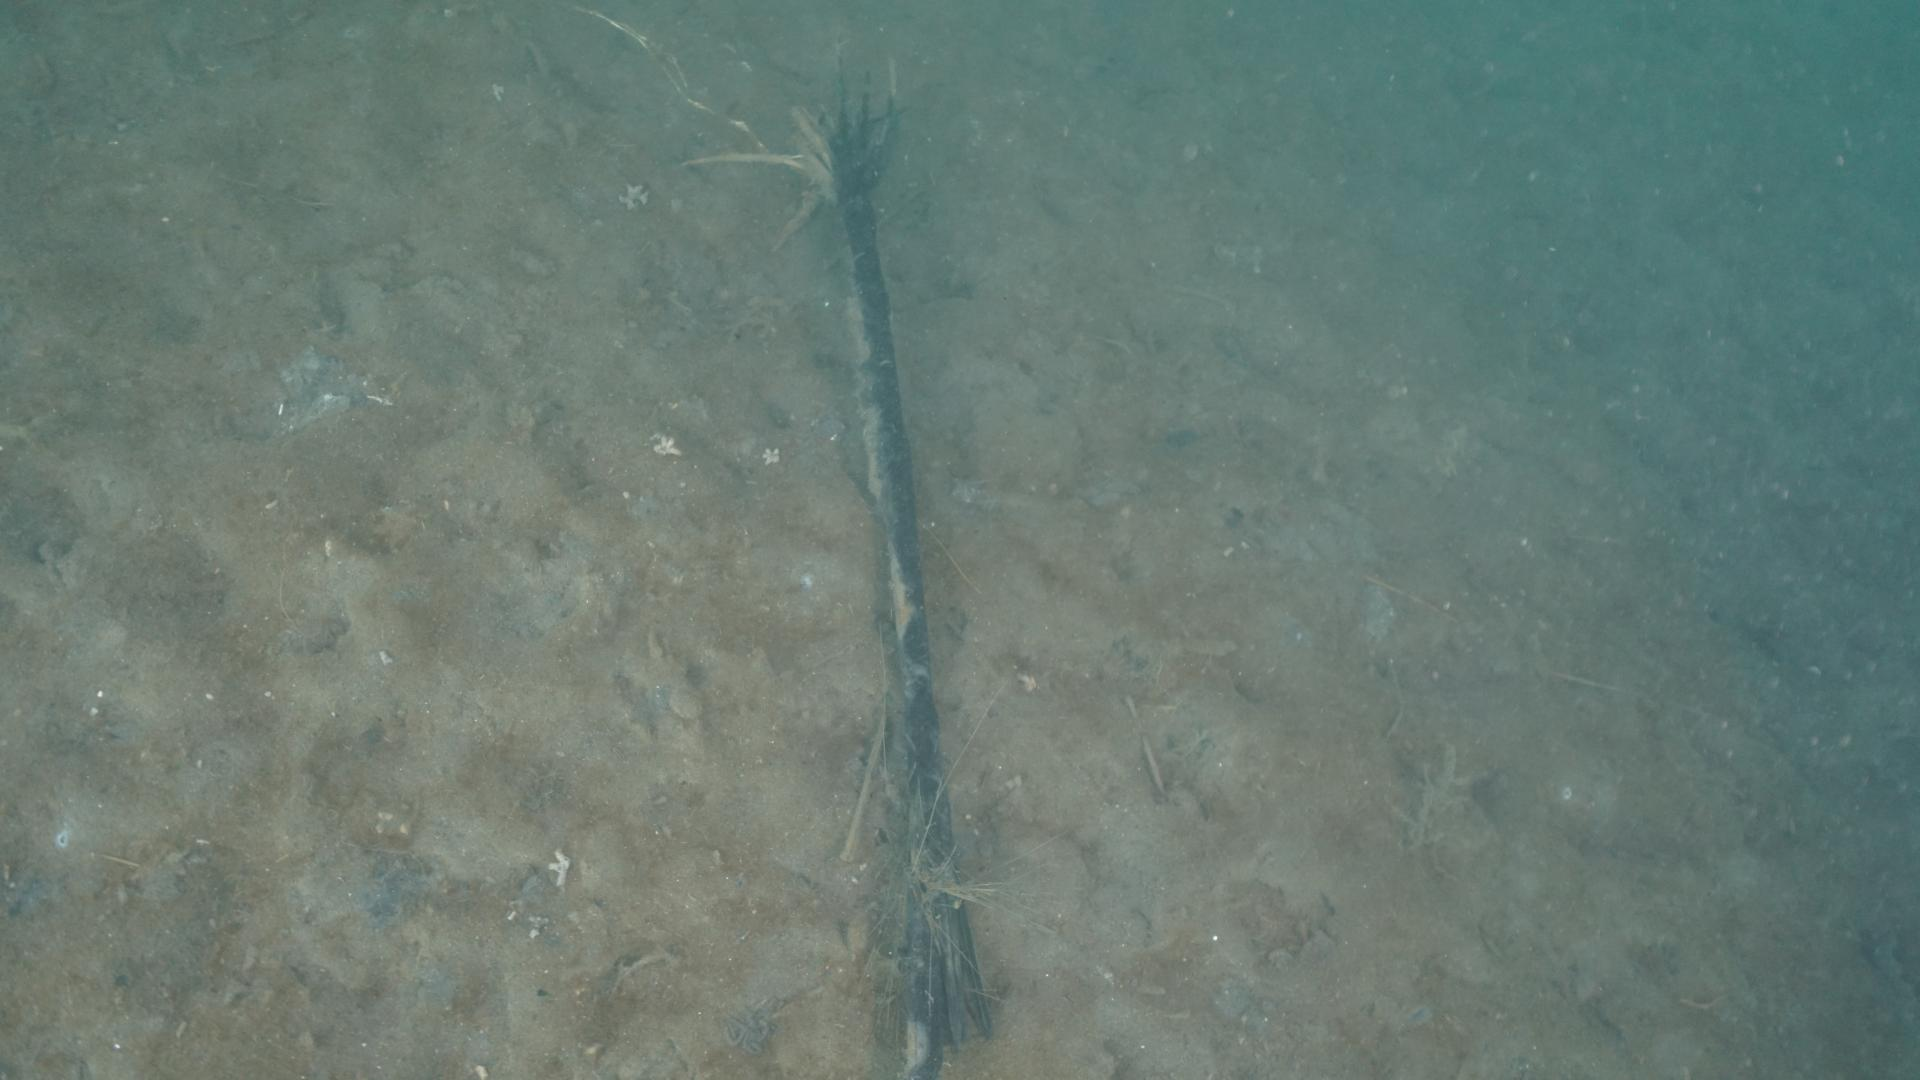wood: (787, 108, 996, 1076)
